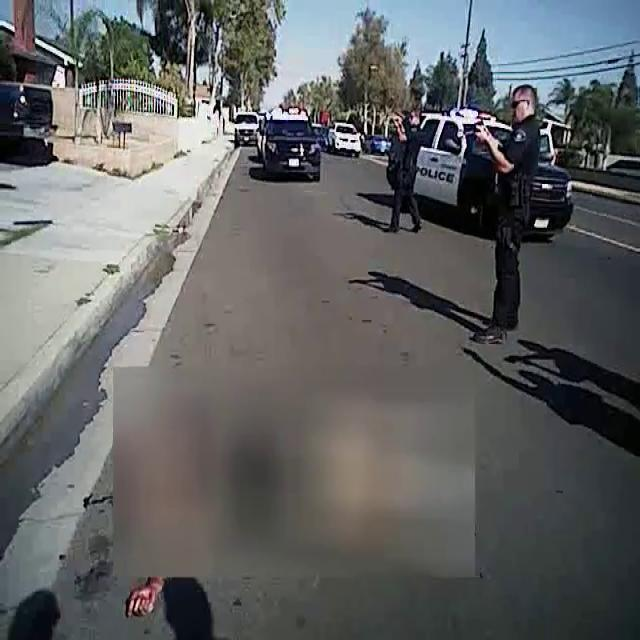gun: (456, 114, 487, 148), (380, 109, 399, 133)
